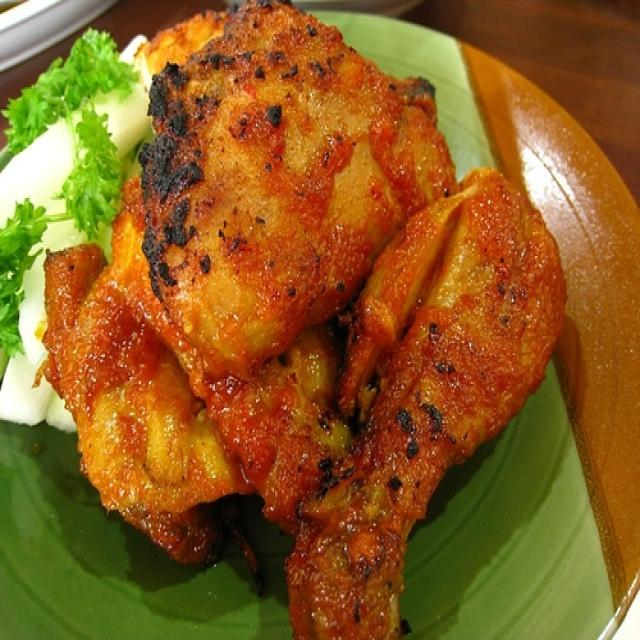鸡肉料理 含炸鸡: (30, 17, 581, 623)
